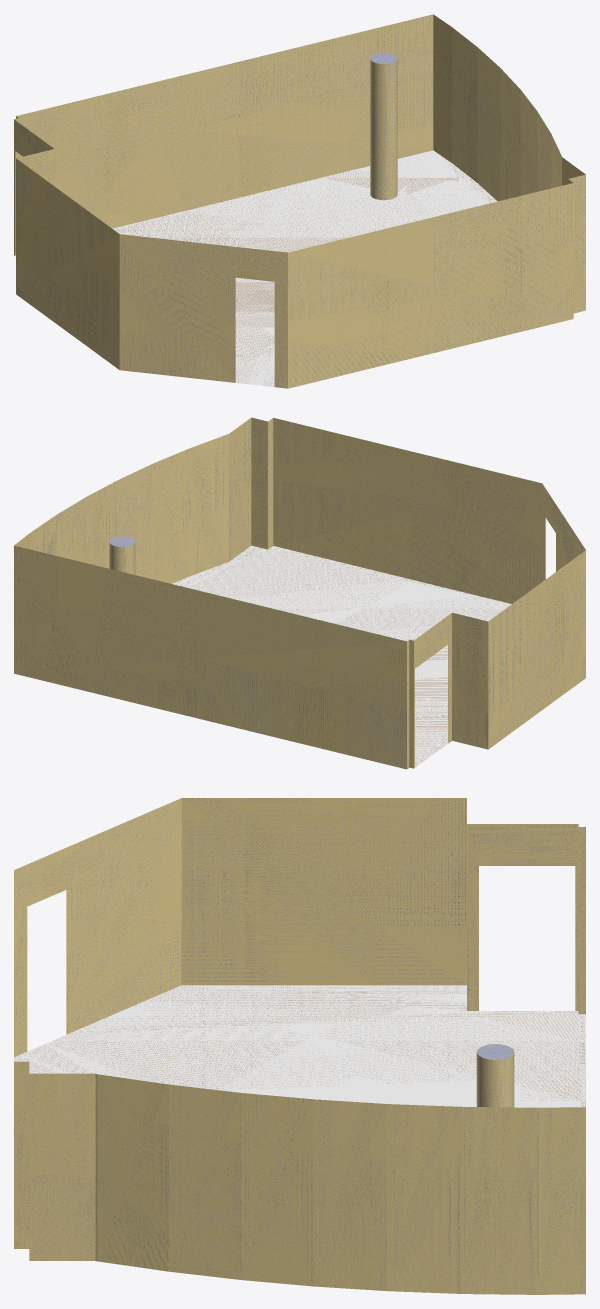
Rendered from LAB011.obj.
3 views of the same model, one above another, from view 1: azimuth 30°, elevation 25°; view 2: azimuth 150°, elevation 25°; view 3: azimuth 270°, elevation 25° (orthographic). The views are drawn at different scales.
Parts seen in each view (by area): view 1: Mesh4 LAB011 Model, Mesh1 Group1 LAB011 Model; view 2: Mesh4 LAB011 Model, Mesh1 Group1 LAB011 Model; view 3: Mesh4 LAB011 Model, Mesh1 Group1 LAB011 Model.
Boxes of the visible parts, x1,y1,x2,y2 form: Mesh4 LAB011 Model: [14, 14, 585, 388]; Mesh1 Group1 LAB011 Model: [370, 52, 397, 200]; Mesh4 LAB011 Model: [14, 417, 585, 769]; Mesh1 Group1 LAB011 Model: [109, 536, 135, 574]; Mesh4 LAB011 Model: [14, 798, 585, 1294]; Mesh1 Group1 LAB011 Model: [476, 1044, 514, 1107].
Bounding box in the file's own units: 10.56 × 2.98 × 8.24.
5 materials, 2 textured.
